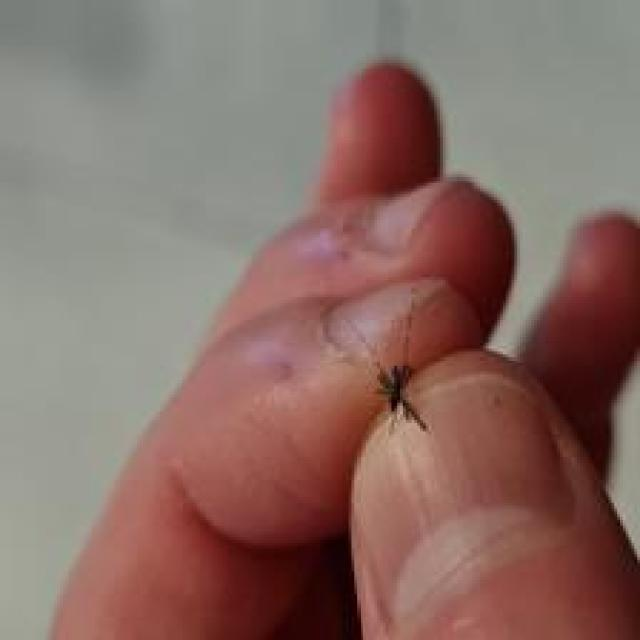Aedes albopictus: (373, 292, 430, 434)
